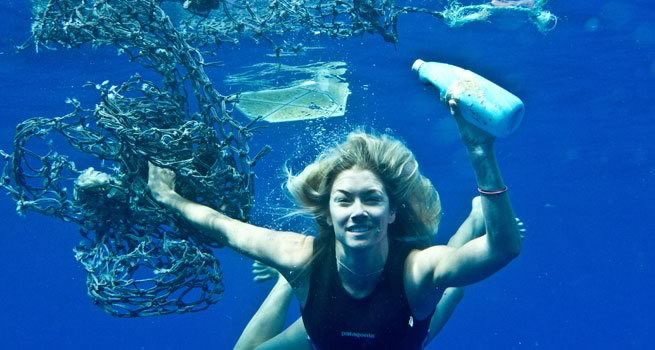litter: (3, 29, 272, 324), (403, 50, 539, 129), (228, 59, 365, 133), (408, 1, 596, 42), (269, 1, 401, 48), (271, 3, 403, 50)
